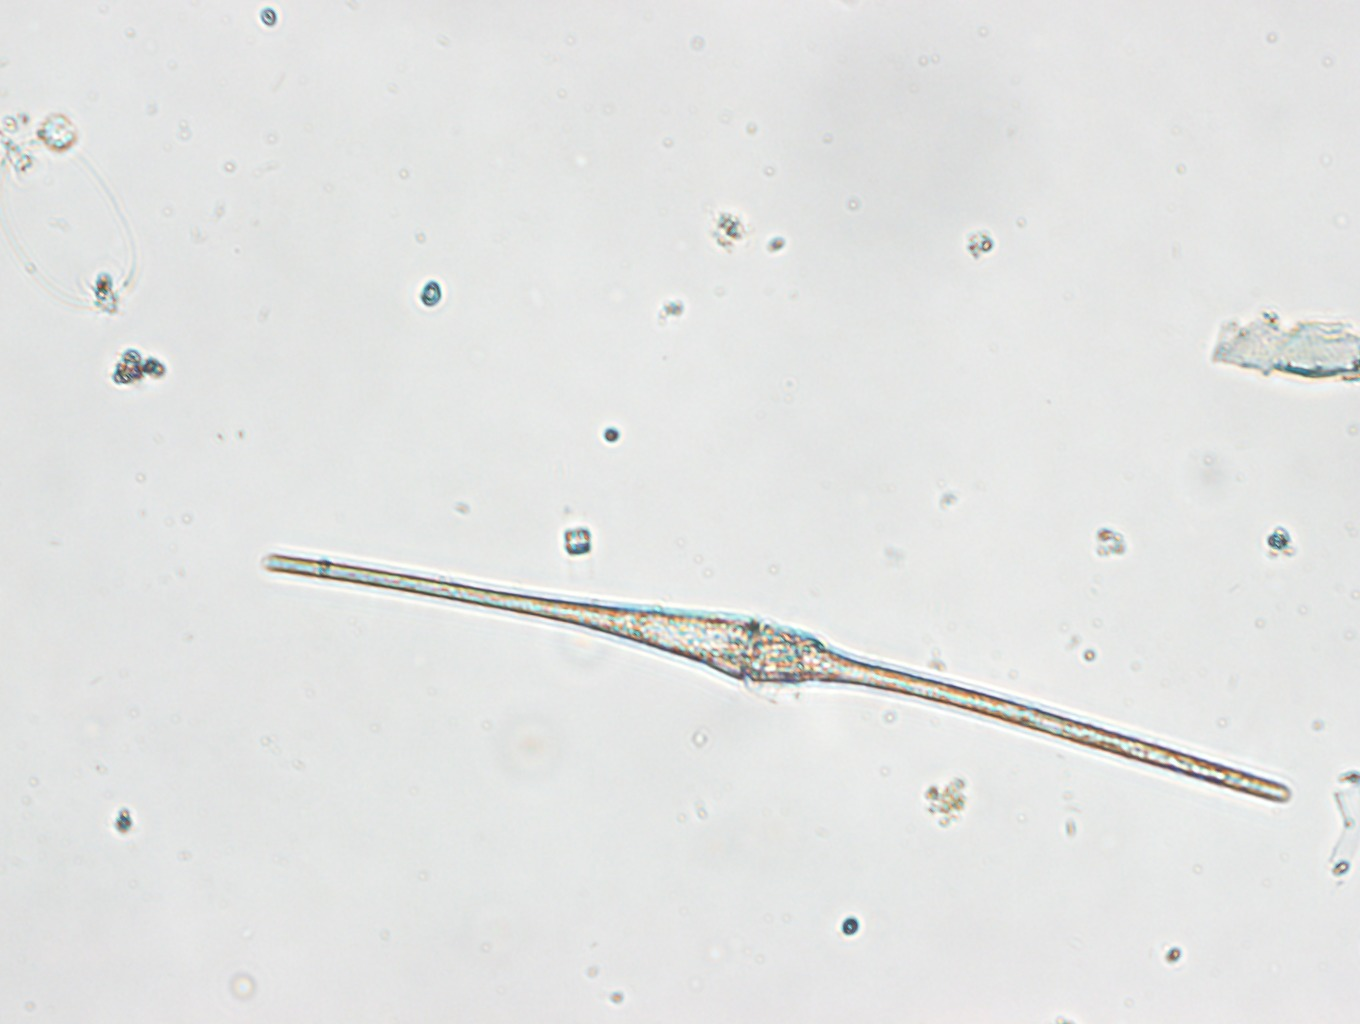ceratium fusus: (261, 549, 1298, 810)
